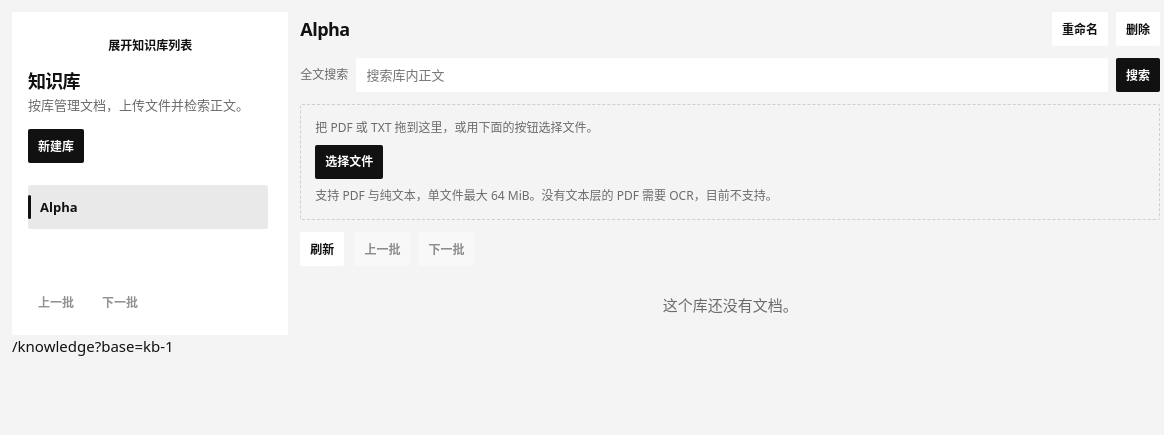
Test case: KnowledgePage › renames a base and reloads its detail
The width and height of the screenshot is (1164, 435).
Expected: the button "Alpha" is shown, [28,185,268,229]
Click the button "重命名" at (1080, 29), box [1052,12,1108,46]
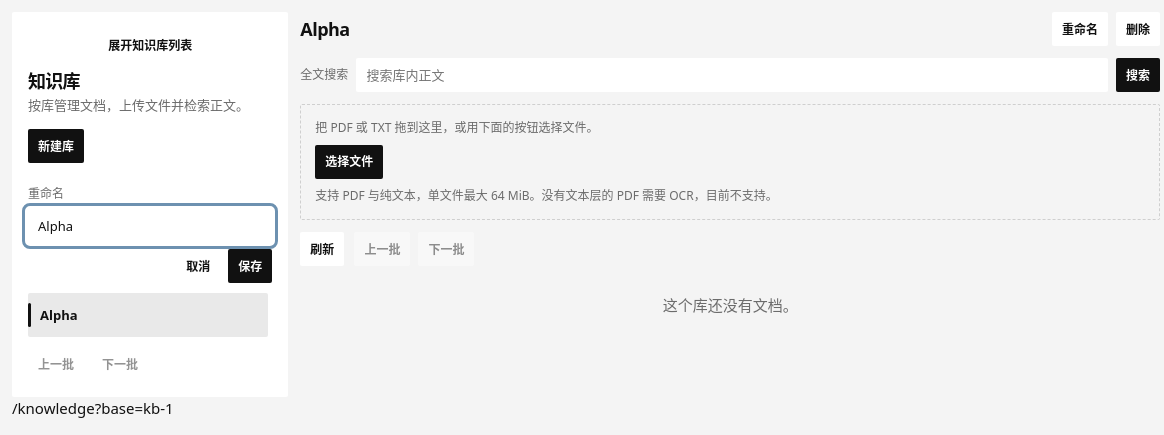
Replace the text in the field labelled "重命名" with "Alpha 2" at (150, 226), box [28,209,272,243]
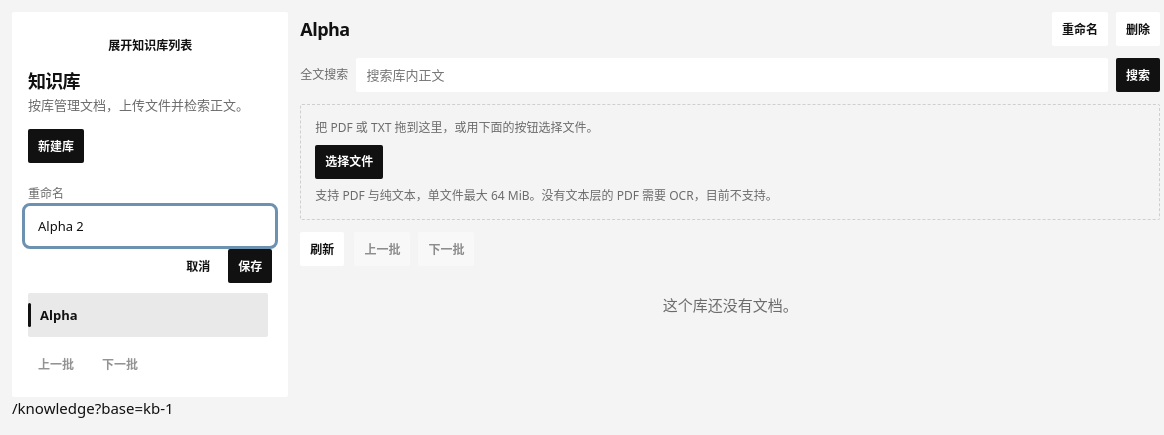
Click the button "保存" at (250, 266), box [228,249,272,283]
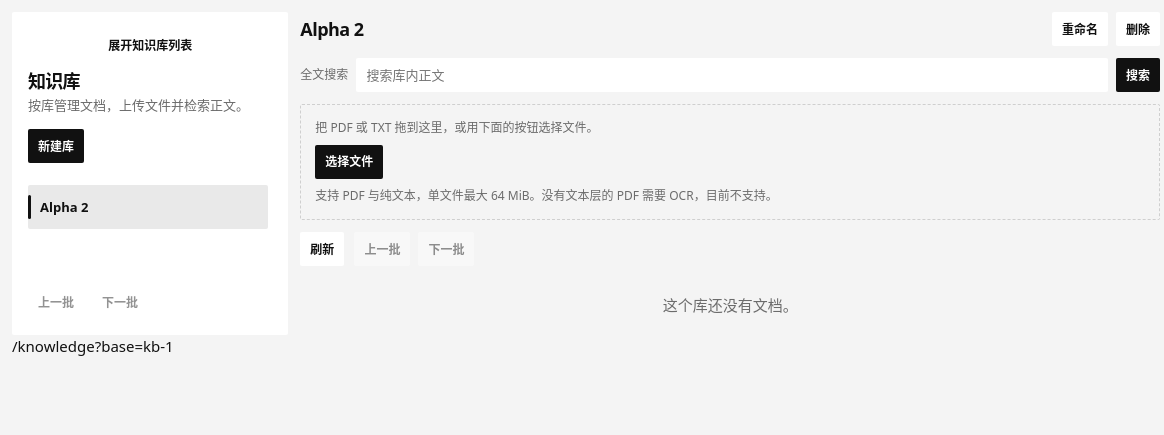
Expected: the button "Alpha 2" is shown, [28,185,268,229]
